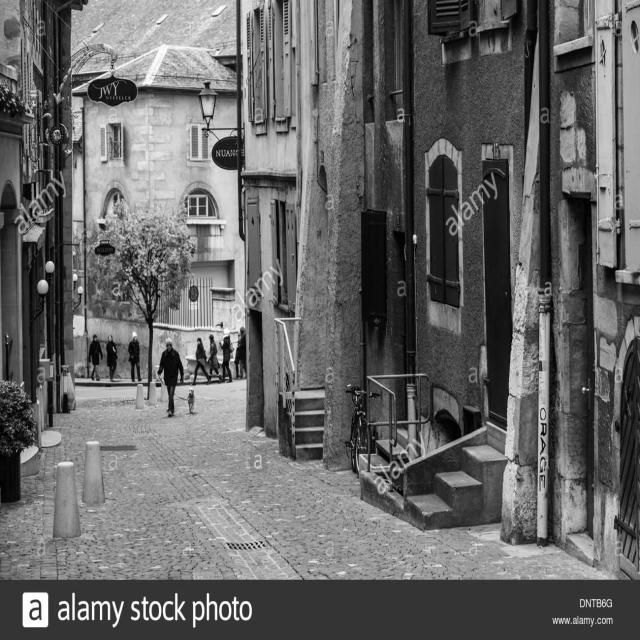person: (195, 335, 232, 385), (158, 341, 182, 418), (105, 336, 142, 384), (88, 336, 119, 384), (218, 333, 242, 383), (211, 334, 233, 380), (192, 338, 211, 384), (128, 334, 142, 381), (88, 336, 102, 382), (206, 335, 220, 379), (221, 335, 234, 379), (107, 336, 120, 380), (234, 330, 246, 377)
